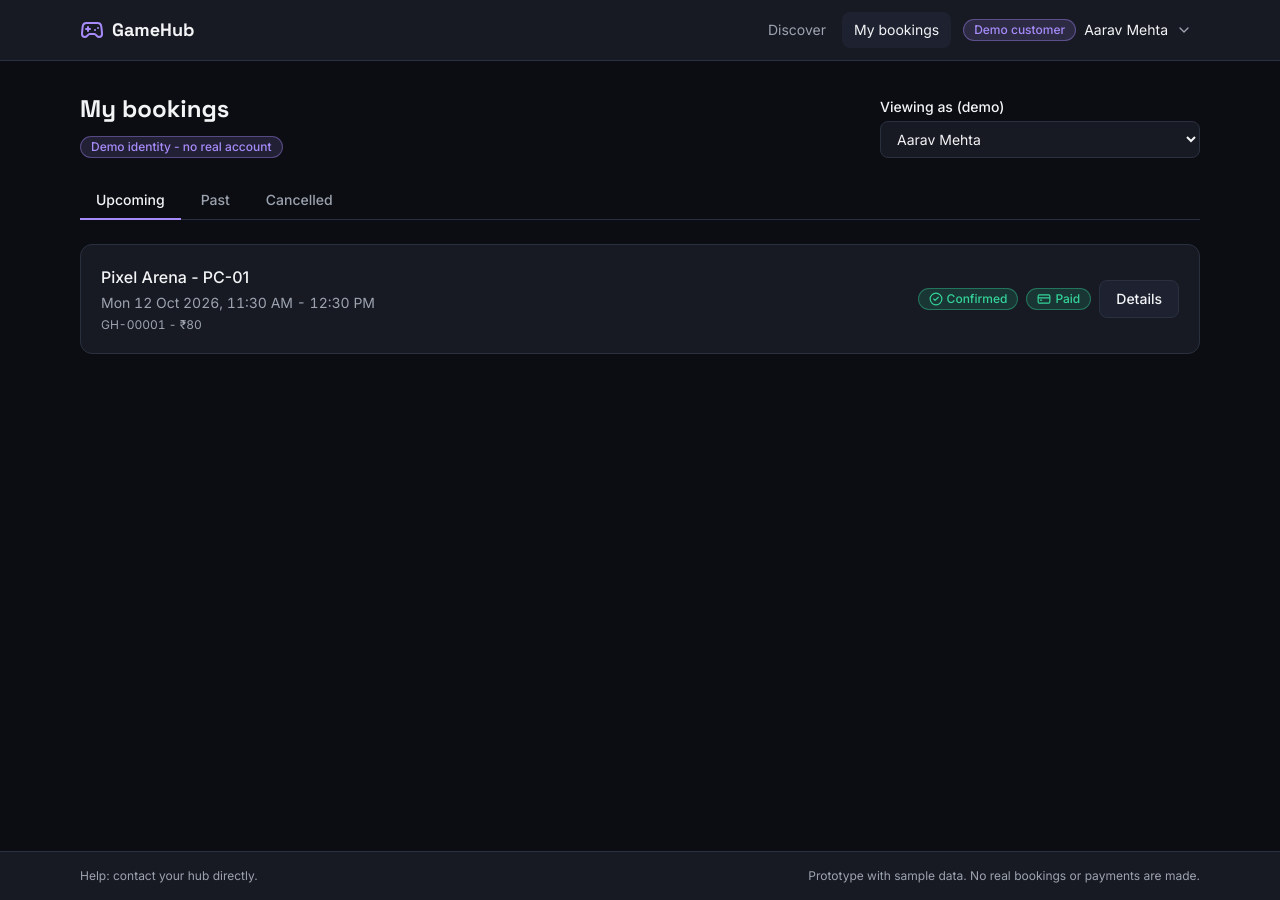
My bookings page › shows an empty state with a link to find a hub
Expected: the text "GH-00001 - ₹80" is shown, [101,317,202,332]
Select "Vikram Rao" in the dropdown labelled "Viewing as (demo)": [1040, 140] box [880,121,1200,158]
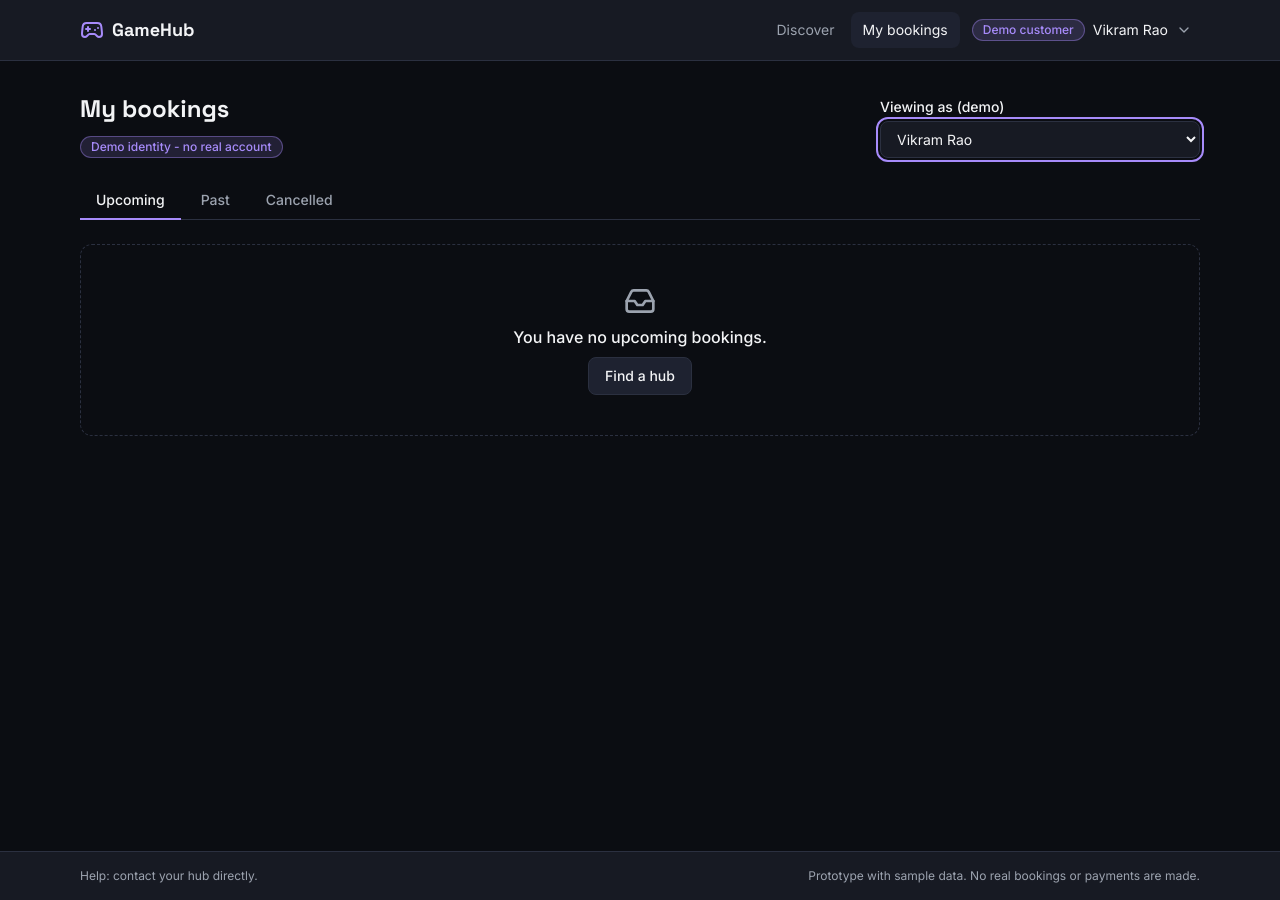
Expected: the heading "You have no upcoming bookings." is shown, [513,325,767,349]
